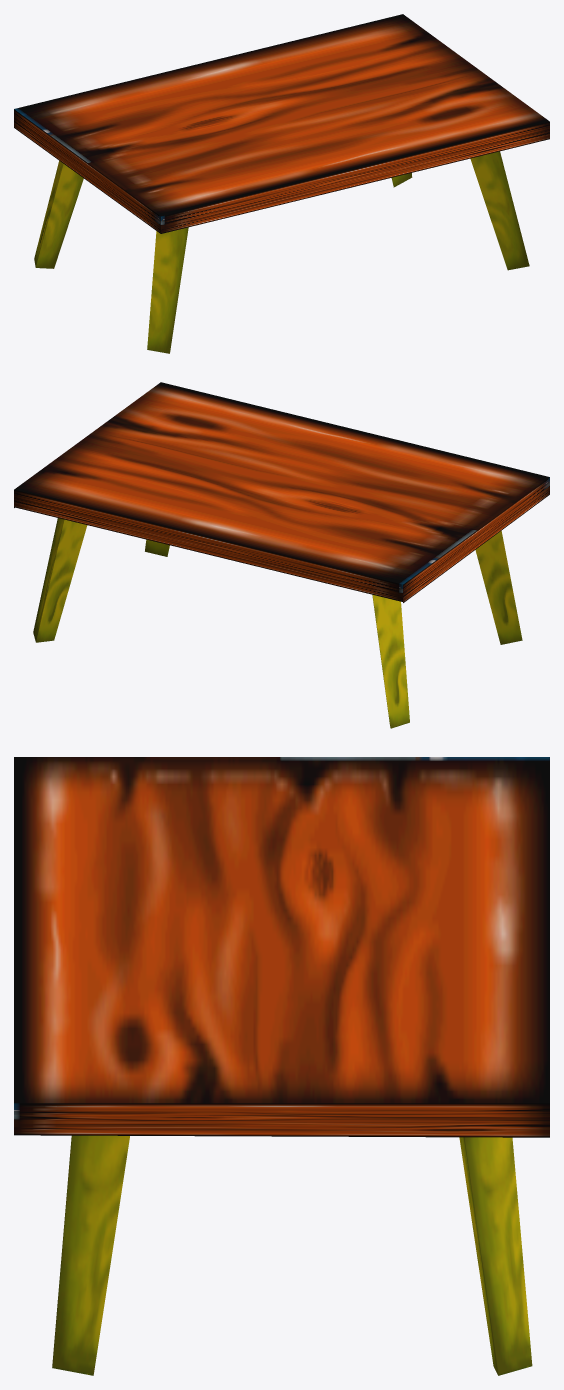
Rendered from Tisch_Lang_1959.glb.
3 views of the same model, one above another, from view 1: azimuth 30°, elevation 25°; view 2: azimuth 150°, elevation 25°; view 3: azimuth 270°, elevation 25° (orthographic). The views are drawn at different scales.
Visible parts, largest first — view 1: pPlaneShape1, pPlaneShape3, pCylinderShape1, pCylinderShape3, pPlaneShape4, pCylinderShape2; view 2: pPlaneShape1, pPlaneShape2, pCylinderShape4, pCylinderShape2, pCylinderShape1, pPlaneShape4; view 3: pPlaneShape1, pPlaneShape5, pCylinderShape3, pCylinderShape4.
Boxes of the visible parts, left/top/right/bottom form: pPlaneShape1: left=14, top=14, right=549, bottom=216; pPlaneShape3: left=161, top=121, right=549, bottom=233; pCylinderShape1: left=147, top=227, right=188, bottom=353; pCylinderShape3: left=470, top=151, right=529, bottom=270; pPlaneShape4: left=14, top=109, right=160, bottom=233; pCylinderShape2: left=34, top=161, right=83, bottom=268; pPlaneShape1: left=14, top=382, right=549, bottom=584; pPlaneShape2: left=14, top=490, right=402, bottom=601; pCylinderShape4: left=33, top=518, right=87, bottom=642; pCylinderShape2: left=372, top=594, right=409, bottom=728; pCylinderShape1: left=475, top=530, right=522, bottom=644; pPlaneShape4: left=403, top=477, right=549, bottom=602; pPlaneShape1: left=14, top=757, right=549, bottom=1103; pPlaneShape5: left=14, top=1103, right=549, bottom=1137; pCylinderShape3: left=52, top=1135, right=129, bottom=1375; pCylinderShape4: left=459, top=1137, right=532, bottom=1375.
Bounding box in the file's own units: 0.2663 × 0.1023 × 0.1742.
Materials: 9 (9 with a texture image).
